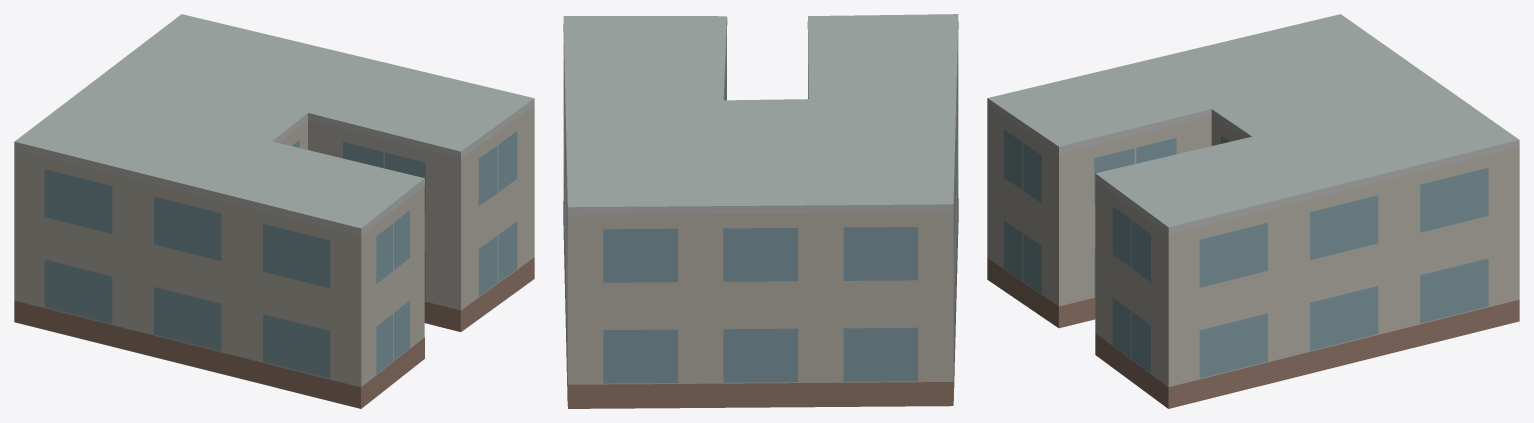
File: survey-upis-32724482.glb
The picture shows the model from 3 angles, left to right: view 1: azimuth 30°, elevation 25°; view 2: azimuth 150°, elevation 25°; view 3: azimuth 270°, elevation 25°; orthographic projection. The views are drawn at different scales.
Parts seen in each view (by area): view 1: survey-upis-32724482.tmp; view 2: survey-upis-32724482.tmp; view 3: survey-upis-32724482.tmp.
Boxes of the visible parts, box(x1,y1,x2,y2) form: survey-upis-32724482.tmp: box(14, 14, 534, 408); survey-upis-32724482.tmp: box(563, 14, 958, 408); survey-upis-32724482.tmp: box(987, 14, 1519, 408).
Size of the model in its own units: 15.38 by 6.1 by 16.21.
